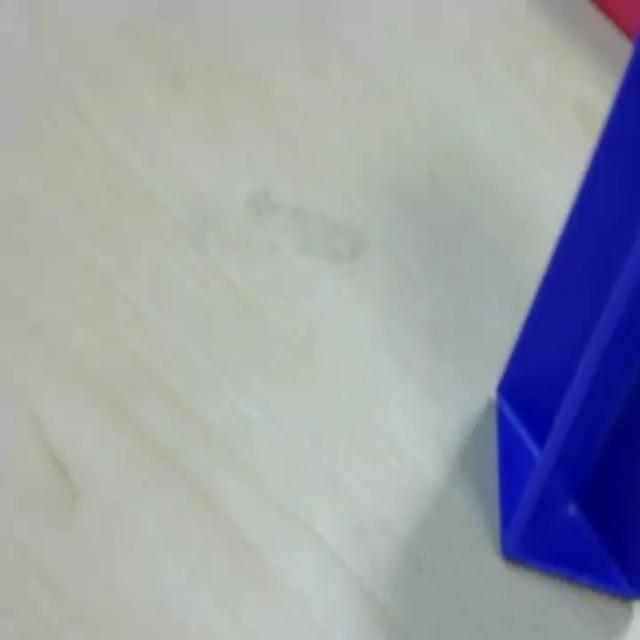blue_block: (494, 28, 638, 600)
